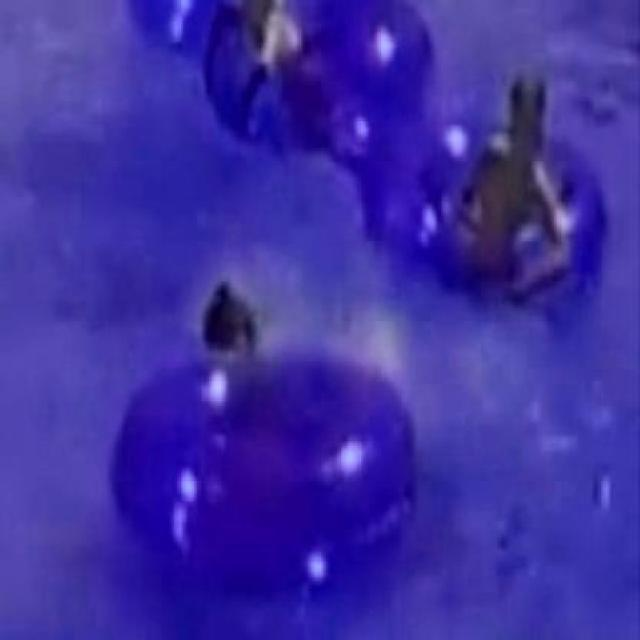drowning: (188, 254, 284, 360)
